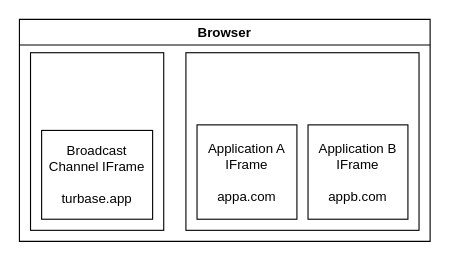
Image size: 450x261. Some labels were removed from this diagram. Each missing label, with the box of its shape:
AIRport tab turbase.app: (185, 52, 419, 230)
Client UI Tab clientui.com: (29, 52, 164, 230)
